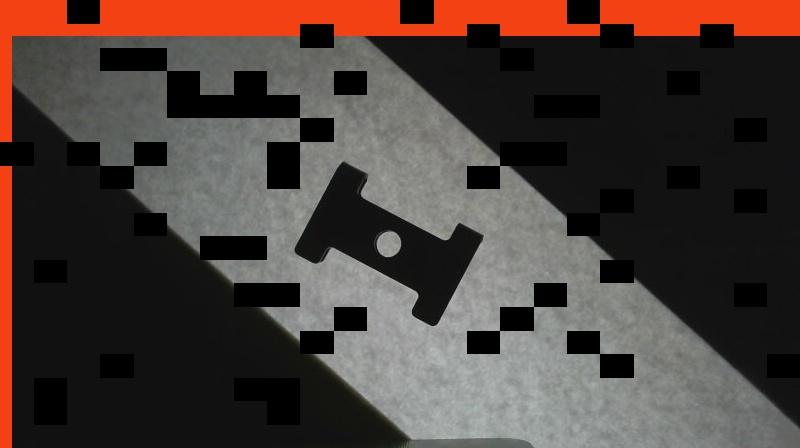O002: (292, 158, 486, 328)
